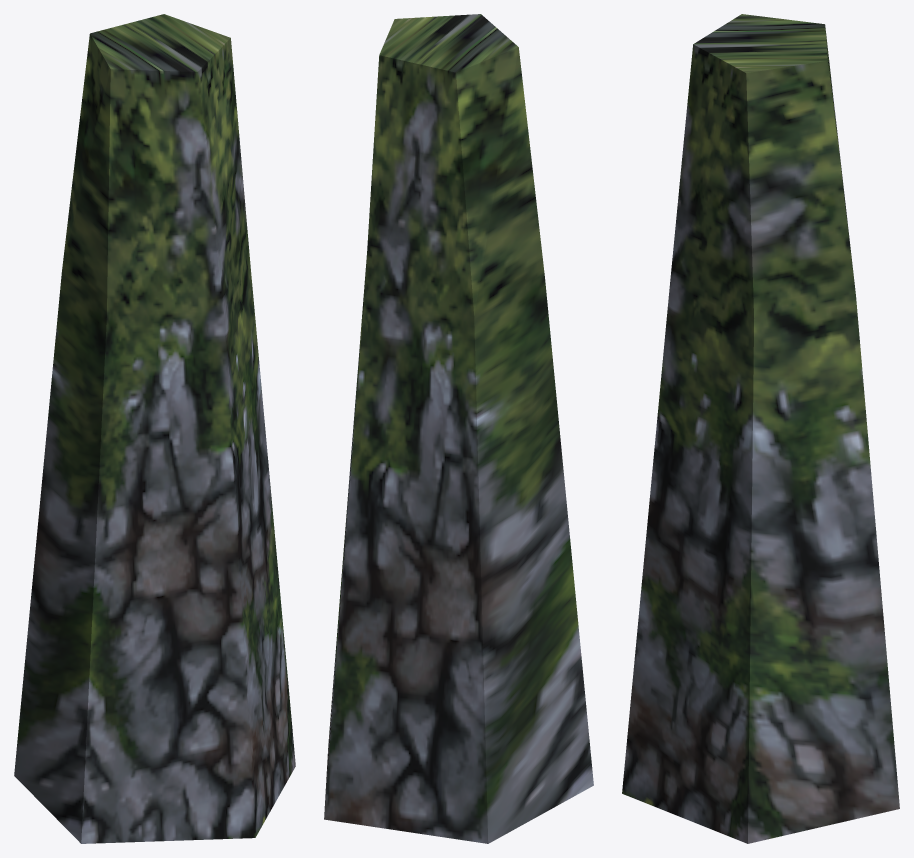
The model's file is PineBase_1.gltf.
3 renders of one model, left to right at view 1: azimuth 30°, elevation 25°; view 2: azimuth 150°, elevation 25°; view 3: azimuth 270°, elevation 25°, orthographic.
Visible parts, largest first — view 1: PineBase_1; view 2: PineBase_1; view 3: PineBase_1.
Boxes of the visible parts, x1=… form: PineBase_1: x1=14, y1=14, x2=295, y2=843; PineBase_1: x1=324, y1=14, x2=593, y2=843; PineBase_1: x1=622, y1=14, x2=899, y2=843.
Size of the model in its own units: 3.98 by 11.78 by 4.02.
Materials: 1 (1 with a texture image).
